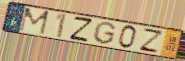0: (117, 25, 138, 49)
1: (55, 13, 68, 40)
G: (91, 21, 118, 45)
M: (18, 7, 51, 36)
Z: (137, 27, 165, 54), (69, 15, 94, 43)
